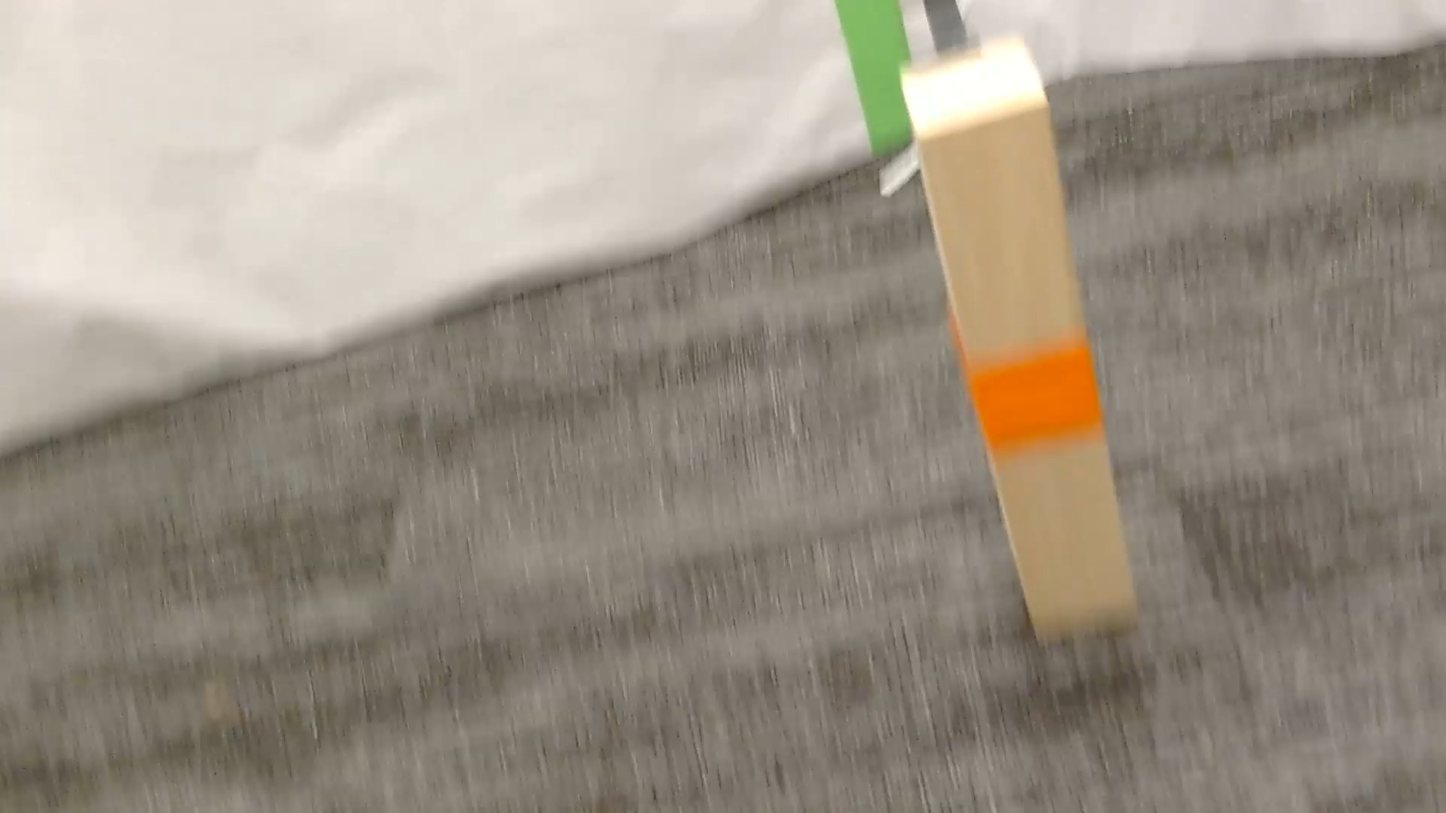Wooden Block: (901, 38, 1136, 639)
